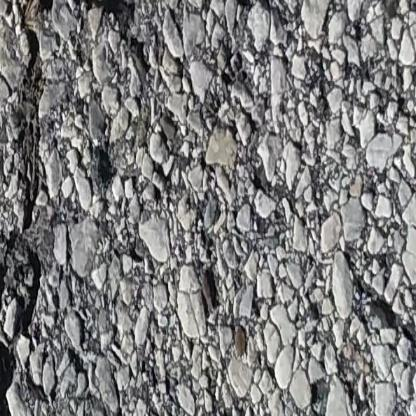Cracks: (0, 0, 200, 416), (219, 0, 279, 14)
